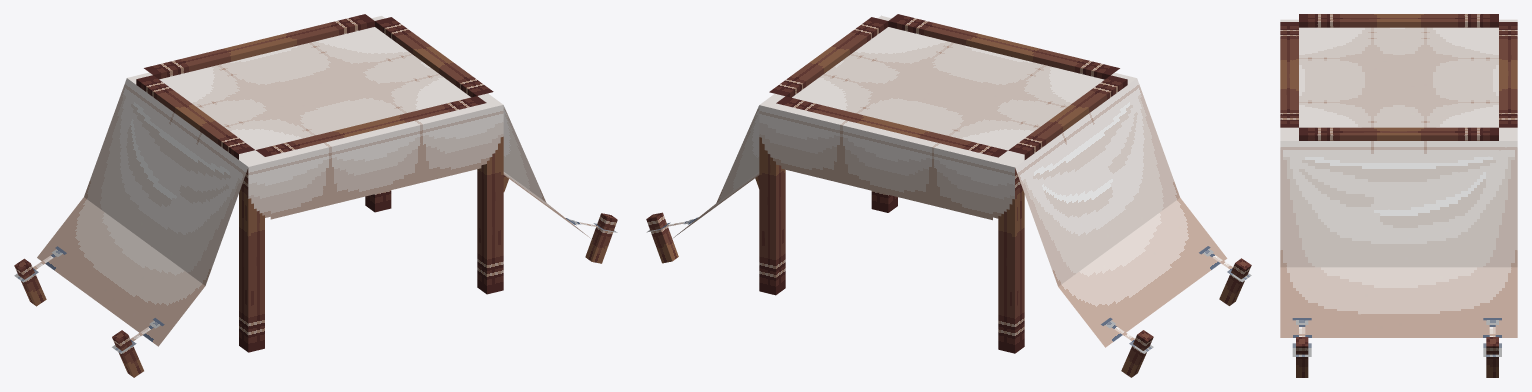
The model's file is tent.gltf.
3 renders of one model, left to right at view 1: azimuth 30°, elevation 25°; view 2: azimuth 150°, elevation 25°; view 3: azimuth 270°, elevation 25°, orthographic. The views are drawn at different scales.
Parts seen in each view (by area): view 1: cube (×14); view 2: cube (×14); view 3: cube (×10).
Part boxes in pixels (x1=…): cube (×14): x1=14, y1=14, x2=617, y2=377; cube (×14): x1=646, y1=14, x2=1251, y2=377; cube (×10): x1=1280, y1=14, x2=1517, y2=377.
Bounding box in the file's own units: 2.82 × 1.06 × 1.19.
1 material, 1 textured.
